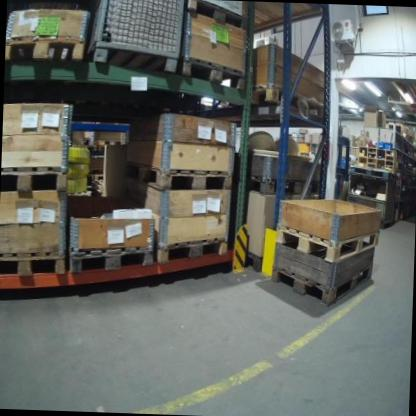pallet: (268, 259, 372, 306), (273, 224, 380, 266), (124, 161, 233, 193), (70, 244, 156, 279), (5, 31, 83, 65), (179, 57, 247, 93), (157, 236, 231, 268), (0, 163, 69, 196), (184, 0, 250, 32), (0, 248, 66, 280), (249, 173, 322, 197), (250, 80, 281, 107)
stillage: (80, 0, 187, 83), (349, 175, 397, 228)
